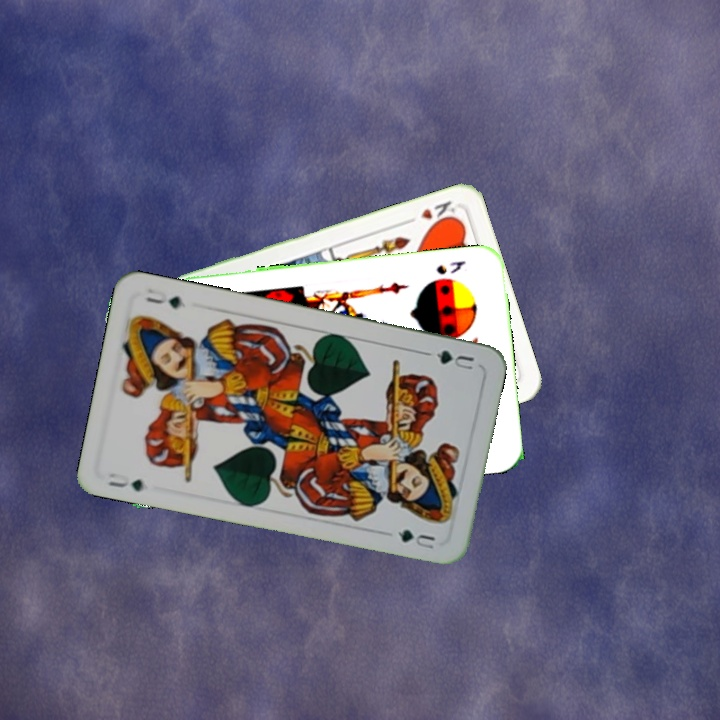GU: (432, 346, 477, 373), (103, 469, 147, 494)
HK: (401, 196, 461, 228)
SK: (432, 256, 468, 277)
